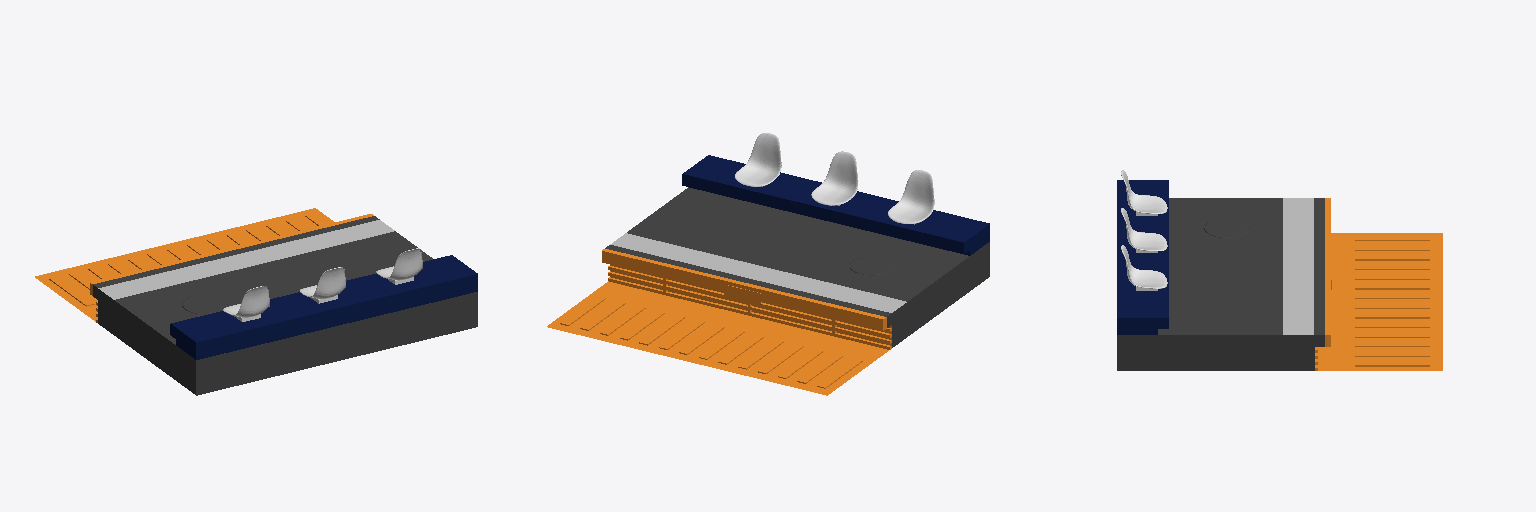
File: orelsan_base-scene5.obj
The picture shows the model from 3 angles: view 1: azimuth 30°, elevation 25°; view 2: azimuth 150°, elevation 25°; view 3: azimuth 270°, elevation 25°; orthographic projection.
Parts seen in each view (by area): view 1: Base_quai, Base_sièges, Base_scène, Bandes, Siège_2, Siège_3, Siège_1, Cylinder; view 2: Base_quai, Base_scène, Base_sièges, Bandes, Sous-quai, Siège_2, Siège_1, Siège_3, Cylinder; view 3: Base_quai, Base_scène, Bandes, Base_sièges, Siège_3, Siège_1, Siège_2, Cylinder.
Boxes of the visible parts, box(x1,y1,x2,y2) form: Base_quai: box(90, 214, 477, 395); Base_sièges: box(170, 255, 477, 359); Base_scène: box(35, 208, 333, 321); Bandes: box(49, 214, 327, 306); Siège_2: box(300, 267, 345, 303); Siège_3: box(376, 248, 422, 284); Siège_1: box(223, 286, 269, 321); Cylinder: box(182, 295, 227, 313); Base_quai: box(602, 187, 989, 347); Base_scène: box(547, 281, 888, 395); Base_sièges: box(682, 155, 989, 255); Bandes: box(560, 296, 862, 388); Sous-quai: box(608, 266, 891, 349); Siège_2: box(811, 151, 857, 205); Siège_1: box(888, 170, 934, 224); Siège_3: box(735, 133, 781, 186); Cylinder: box(850, 256, 894, 275); Base_quai: box(1117, 198, 1330, 370); Base_scène: box(1318, 233, 1442, 370); Bandes: box(1355, 236, 1429, 366); Base_sièges: box(1117, 180, 1168, 334); Siège_3: box(1121, 245, 1167, 290); Siège_1: box(1121, 170, 1167, 215); Siège_2: box(1121, 208, 1167, 252); Cylinder: box(1204, 219, 1249, 237).
Size of the model in its own units: 500 by 156 by 500.